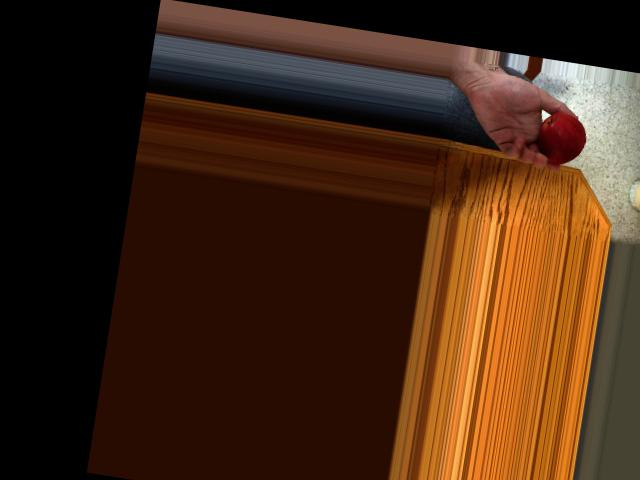apple: (533, 110, 592, 167)
